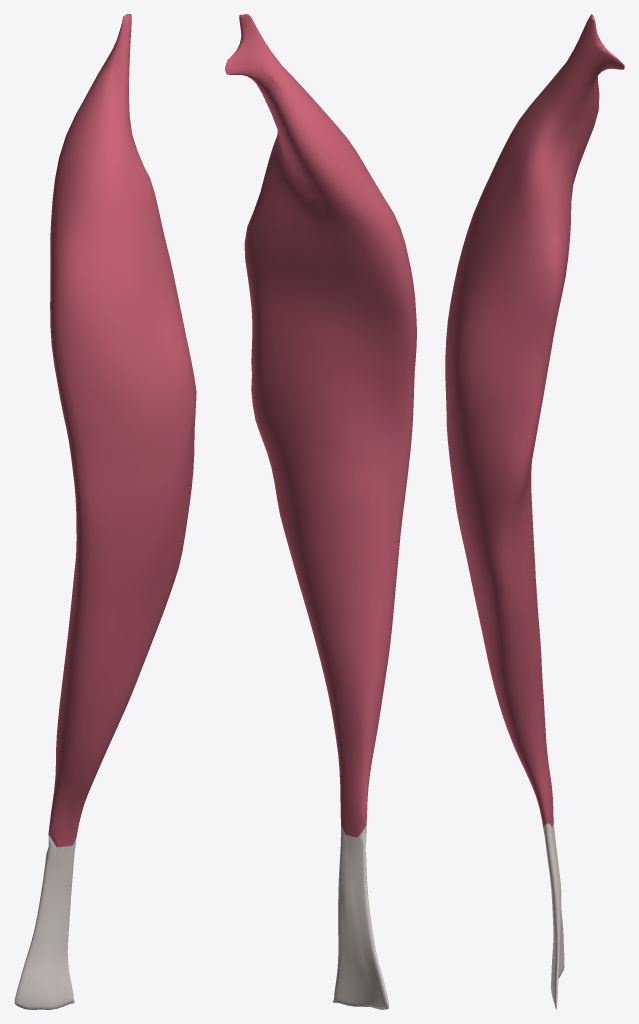
Rendered from VH_M_Muscles_Knee_R.glb.
3 views of the same model, side by side, from view 1: azimuth 30°, elevation 25°; view 2: azimuth 150°, elevation 25°; view 3: azimuth 270°, elevation 25° (orthographic). The views are drawn at different scales.
Parts seen in each view (by area): view 1: VH_M_rectus_femoris_R, VH_M_tendon_of_quadriceps_femoris_R; view 2: VH_M_rectus_femoris_R, VH_M_tendon_of_quadriceps_femoris_R; view 3: VH_M_rectus_femoris_R, VH_M_tendon_of_quadriceps_femoris_R.
Boxes of the visible parts, x1=… form: VH_M_rectus_femoris_R: x1=48, y1=14, x2=196, y2=847; VH_M_tendon_of_quadriceps_femoris_R: x1=14, y1=834, x2=76, y2=1009; VH_M_rectus_femoris_R: x1=225, y1=14, x2=416, y2=837; VH_M_tendon_of_quadriceps_femoris_R: x1=333, y1=825, x2=388, y2=1009; VH_M_rectus_femoris_R: x1=445, y1=14, x2=624, y2=828; VH_M_tendon_of_quadriceps_femoris_R: x1=543, y1=822, x2=564, y2=1009.
Size of the model in its own units: 0.0755 by 0.4552 by 0.0718.
